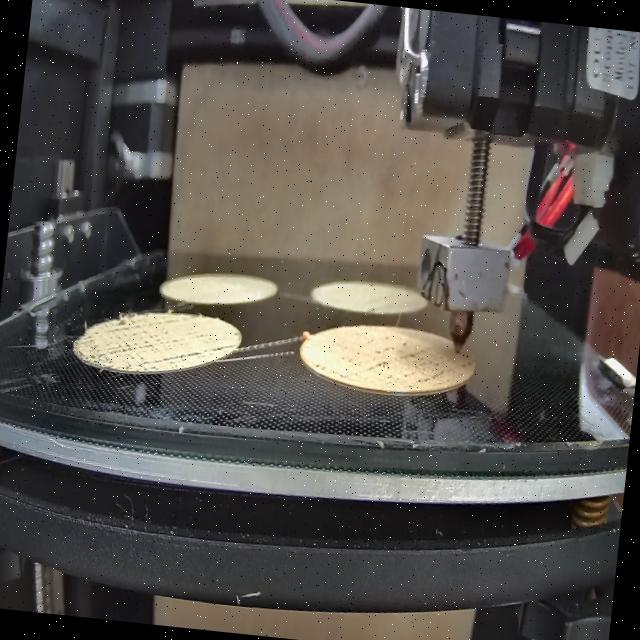under_extrusion: (76, 308, 209, 377), (364, 336, 454, 394), (308, 351, 346, 384), (210, 338, 240, 357)
